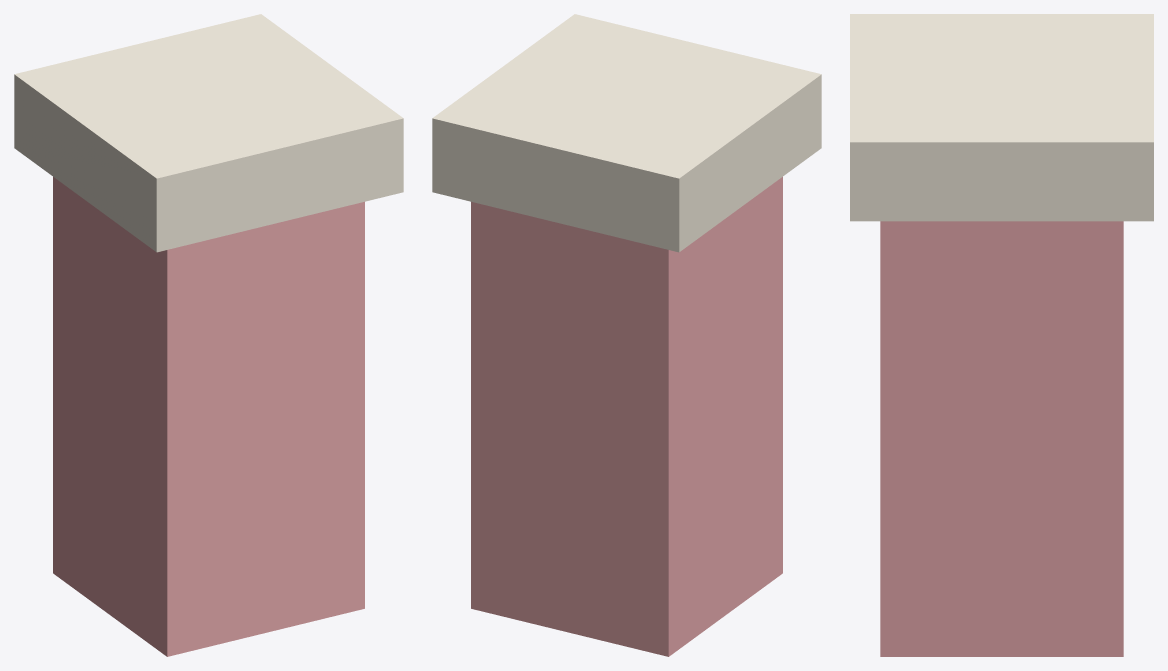
File: chimney.glb
3 renders of one model, left to right at view 1: azimuth 30°, elevation 25°; view 2: azimuth 150°, elevation 25°; view 3: azimuth 270°, elevation 25°, orthographic. The views are drawn at different scales.
Parts seen in each view (by area): view 1: chimney, cap; view 2: chimney, cap; view 3: chimney, cap.
Part boxes in pixels (bbox=[...]): chimney: bbox=[53, 177, 364, 656]; cap: bbox=[14, 14, 403, 252]; chimney: bbox=[471, 177, 782, 656]; cap: bbox=[432, 14, 821, 252]; chimney: bbox=[880, 221, 1123, 656]; cap: bbox=[850, 14, 1153, 221].
Size of the model in its own units: 0.35 by 0.67 by 0.35.
